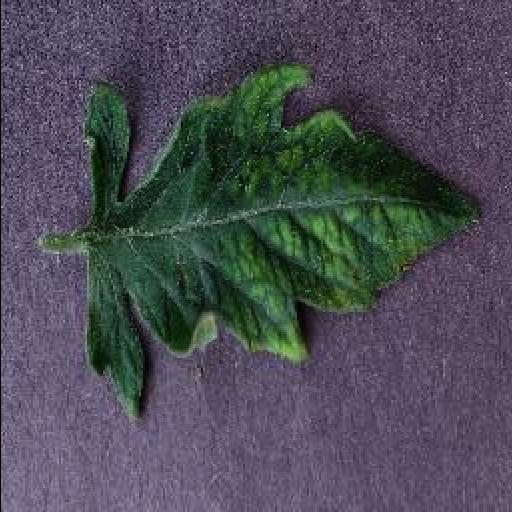Mosaic Virus: (74, 64, 482, 422)
